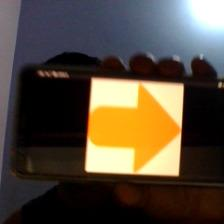right: (91, 81, 181, 171)
